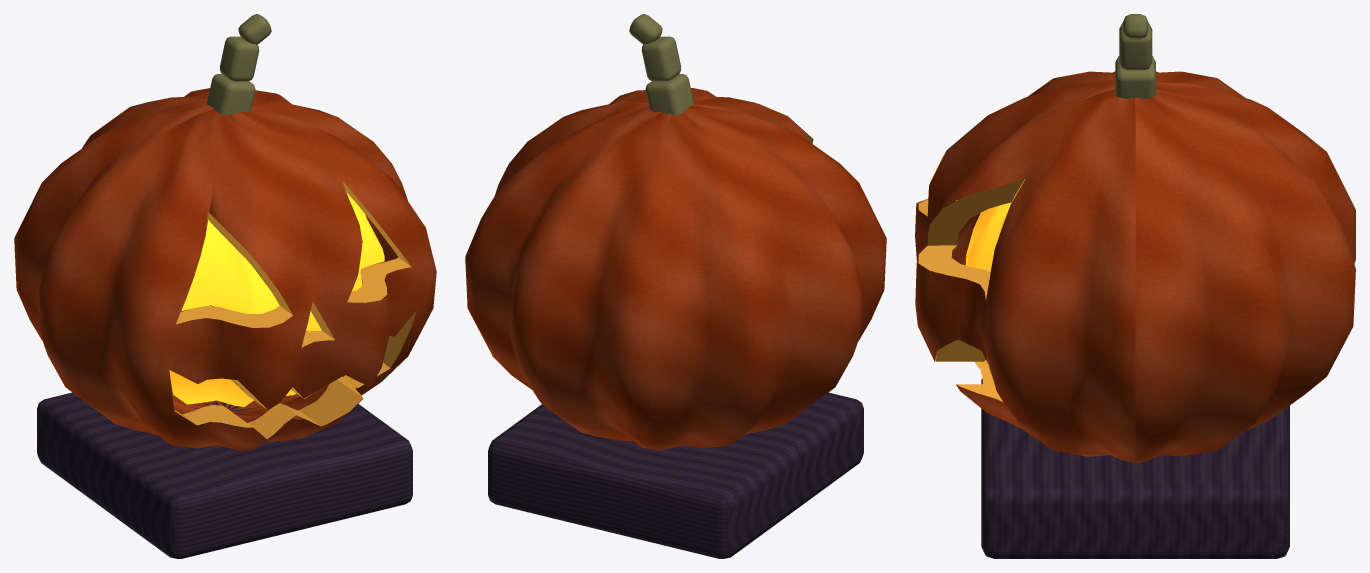
Rendered from bridge.glb.
The picture shows the model from 3 angles, left to right: view 1: azimuth 30°, elevation 25°; view 2: azimuth 150°, elevation 25°; view 3: azimuth 270°, elevation 25°; orthographic projection. The views are drawn at different scales.
Visible parts, largest first — view 1: Lantern; view 2: Lantern; view 3: Lantern.
Part boxes in pixels (x1,y1,x2,y2): Lantern: (14, 14, 436, 558); Lantern: (465, 14, 886, 558); Lantern: (915, 14, 1355, 558).
Size of the model in its own units: 0.8876 by 1.06 by 0.8433.
5 materials, 2 textured.
